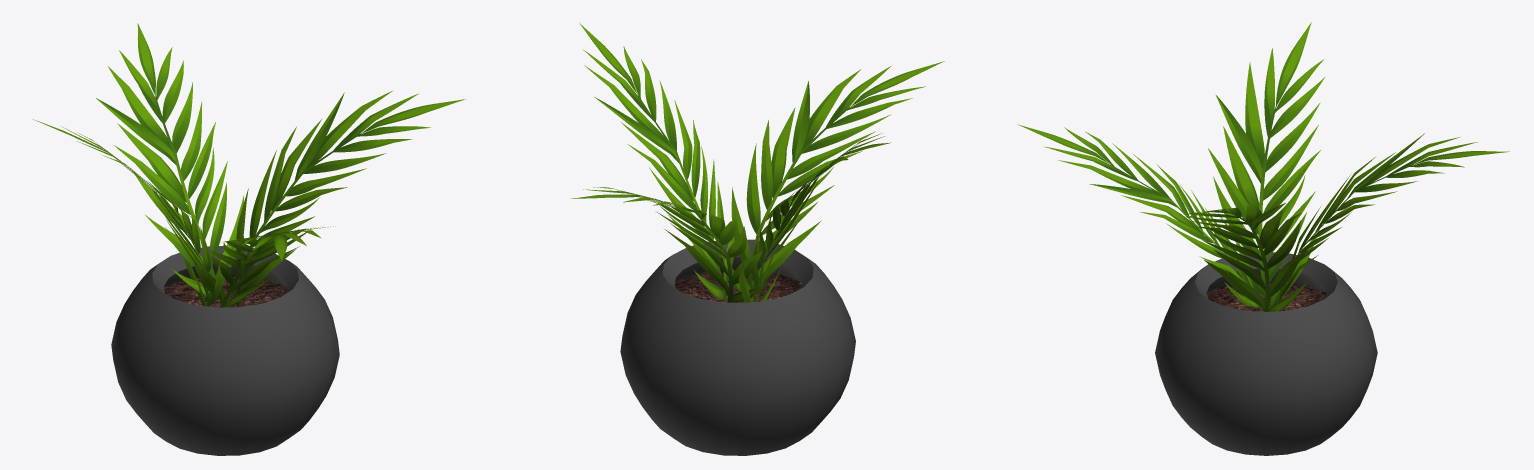
Rendered from pot.fbx.
The picture shows the model from 3 angles, left to right: view 1: azimuth 30°, elevation 25°; view 2: azimuth 150°, elevation 25°; view 3: azimuth 270°, elevation 25°; orthographic projection. The views are drawn at different scales.
Visible parts, largest first — view 1: pot; view 2: pot; view 3: pot.
Part boxes in pixels (<box>): pot: <box>33,23,465,455</box>; pot: <box>571,23,944,455</box>; pot: <box>1017,22,1509,455</box>.
Bounding box in the file's own units: 2.57 × 2.12 × 3.09.
3 materials, 2 textured.
